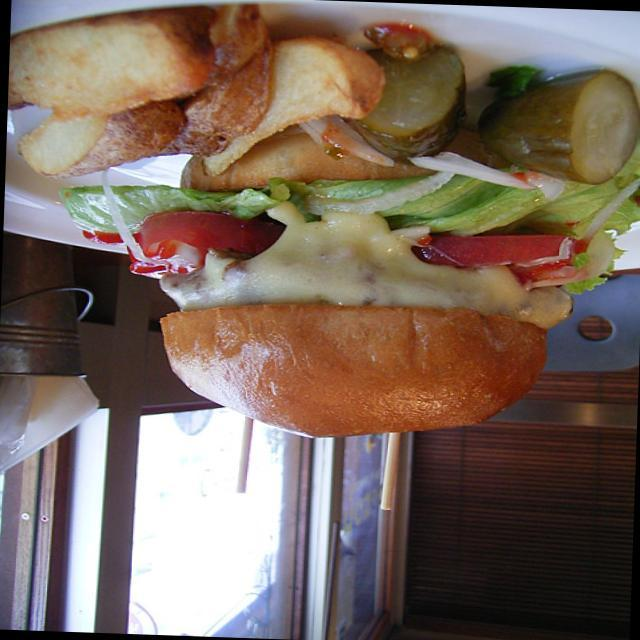Hamburger: (115, 60, 601, 445)
